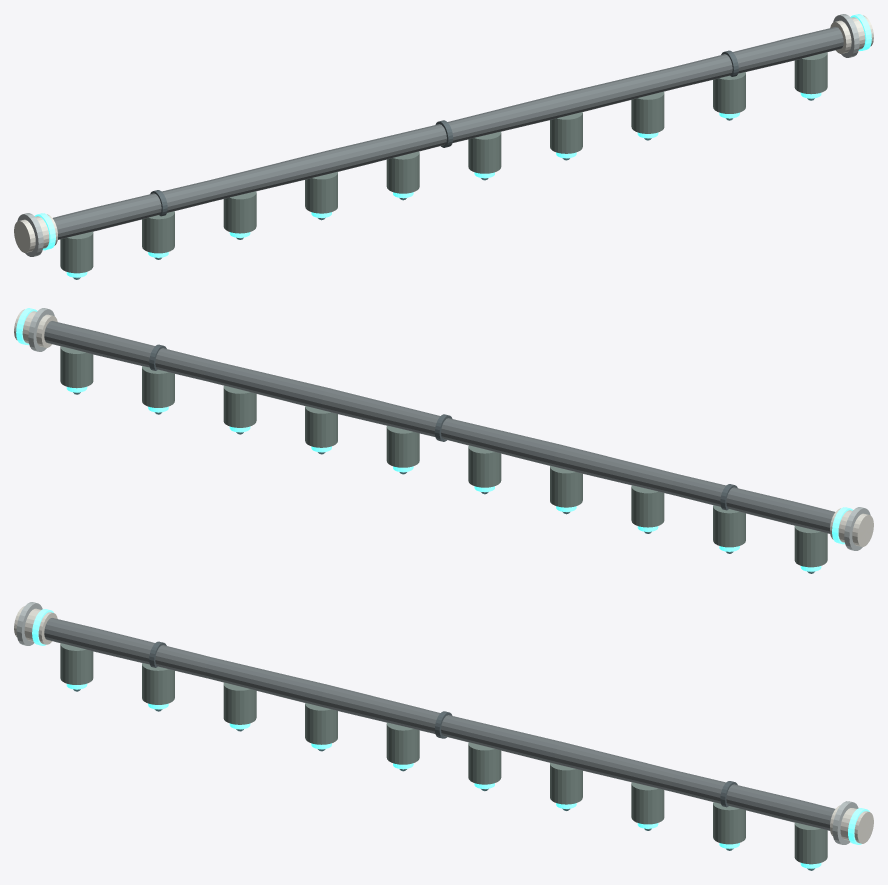
File: s7-i05-dripline-2m.glb
3 views of the same model, one above another, from view 1: azimuth 30°, elevation 25°; view 2: azimuth 150°, elevation 25°; view 3: azimuth 330°, elevation 25° (orthographic).
Visible parts, largest first — view 1: 000_actual_curved_hose_swept_3d, 016_drip_junction_2, 025_drip_junction_5, 031_drip_junction_7, 022_drip_junction_4, 010_drip_junction_0, 037_drip_junction_9, 019_drip_junction_3, 013_drip_junction_1, 028_drip_junction_6, 034_drip_junction_8, 001_end_0_sealing_socket (+1 smaller); view 2: 000_actual_curved_hose_swept_3d, 016_drip_junction_2, 025_drip_junction_5, 031_drip_junction_7, 022_drip_junction_4, 010_drip_junction_0, 037_drip_junction_9, 019_drip_junction_3, 013_drip_junction_1, 028_drip_junction_6, 034_drip_junction_8, 001_end_0_sealing_socket (+1 smaller); view 3: 000_actual_curved_hose_swept_3d, 031_drip_junction_7, 022_drip_junction_4, 016_drip_junction_2, 025_drip_junction_5, 037_drip_junction_9, 010_drip_junction_0, 028_drip_junction_6, 034_drip_junction_8, 013_drip_junction_1, 019_drip_junction_3, 004_end_1_sealing_socket (+1 smaller).
Part boxes in pixels (<box>): 000_actual_curved_hose_swept_3d: <box>52,27,843,239</box>; 016_drip_junction_2: <box>223,191,256,233</box>; 025_drip_junction_5: <box>468,131,501,173</box>; 031_drip_junction_7: <box>631,91,664,133</box>; 022_drip_junction_4: <box>386,151,419,193</box>; 010_drip_junction_0: <box>60,231,93,273</box>; 037_drip_junction_9: <box>794,52,827,94</box>; 019_drip_junction_3: <box>305,171,337,213</box>; 013_drip_junction_1: <box>142,211,174,253</box>; 028_drip_junction_6: <box>550,112,582,153</box>; 034_drip_junction_8: <box>713,72,745,113</box>; 001_end_0_sealing_socket: <box>14,214,57,252</box>; 000_actual_curved_hose_swept_3d: <box>44,321,835,533</box>; 016_drip_junction_2: <box>631,485,664,527</box>; 025_drip_junction_5: <box>386,425,419,467</box>; 031_drip_junction_7: <box>223,385,256,427</box>; 022_drip_junction_4: <box>468,445,501,487</box>; 010_drip_junction_0: <box>794,525,827,567</box>; 037_drip_junction_9: <box>60,346,93,388</box>; 019_drip_junction_3: <box>550,465,582,507</box>; 013_drip_junction_1: <box>713,505,745,547</box>; 028_drip_junction_6: <box>305,406,337,447</box>; 034_drip_junction_8: <box>142,366,174,407</box>; 001_end_0_sealing_socket: <box>830,508,873,546</box>; 000_actual_curved_hose_swept_3d: <box>44,618,835,830</box>; 031_drip_junction_7: <box>631,782,664,824</box>; 022_drip_junction_4: <box>386,722,419,764</box>; 016_drip_junction_2: <box>223,682,256,724</box>; 025_drip_junction_5: <box>468,742,501,784</box>; 037_drip_junction_9: <box>794,822,827,864</box>; 010_drip_junction_0: <box>60,643,93,684</box>; 028_drip_junction_6: <box>550,762,582,804</box>; 034_drip_junction_8: <box>713,802,745,844</box>; 013_drip_junction_1: <box>142,663,174,704</box>; 019_drip_junction_3: <box>305,703,337,744</box>; 004_end_1_sealing_socket: <box>830,805,873,843</box>.
Size of the model in its own units: 2.07 by 0.1778 by 0.0935.
